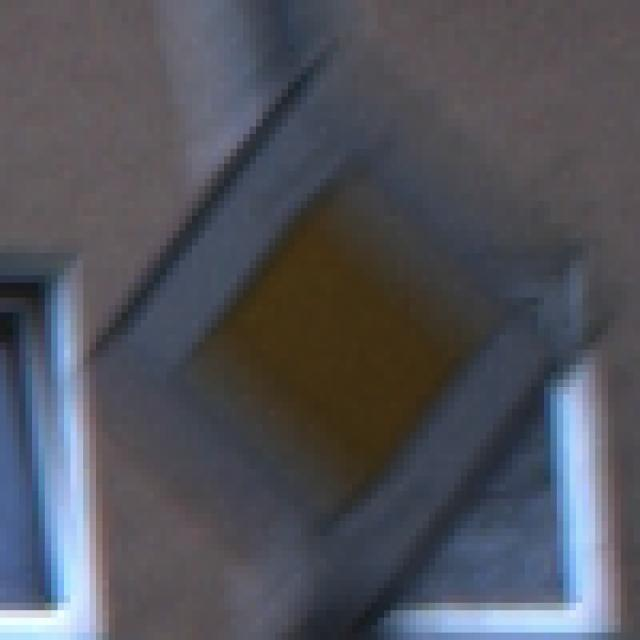Main Road: (52, 60, 590, 589)
